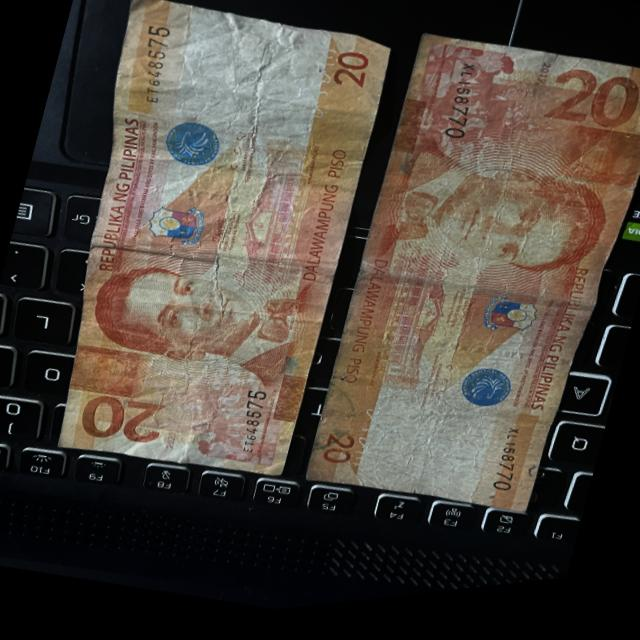concealed_value: (546, 129, 640, 208), (65, 338, 154, 409)
see_through_mark: (276, 38, 356, 138), (343, 397, 403, 487)
serial_number: (482, 410, 544, 520), (116, 17, 182, 115), (436, 64, 494, 157), (220, 384, 272, 466)
value: (527, 63, 640, 164), (72, 379, 179, 463)
